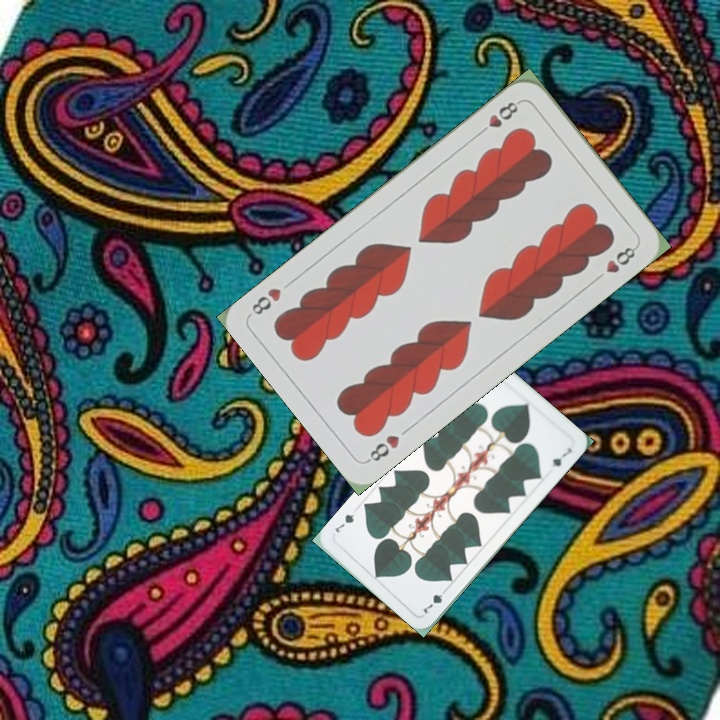G7: (417, 583, 450, 616)
H8: (473, 97, 523, 139), (363, 431, 402, 465)
